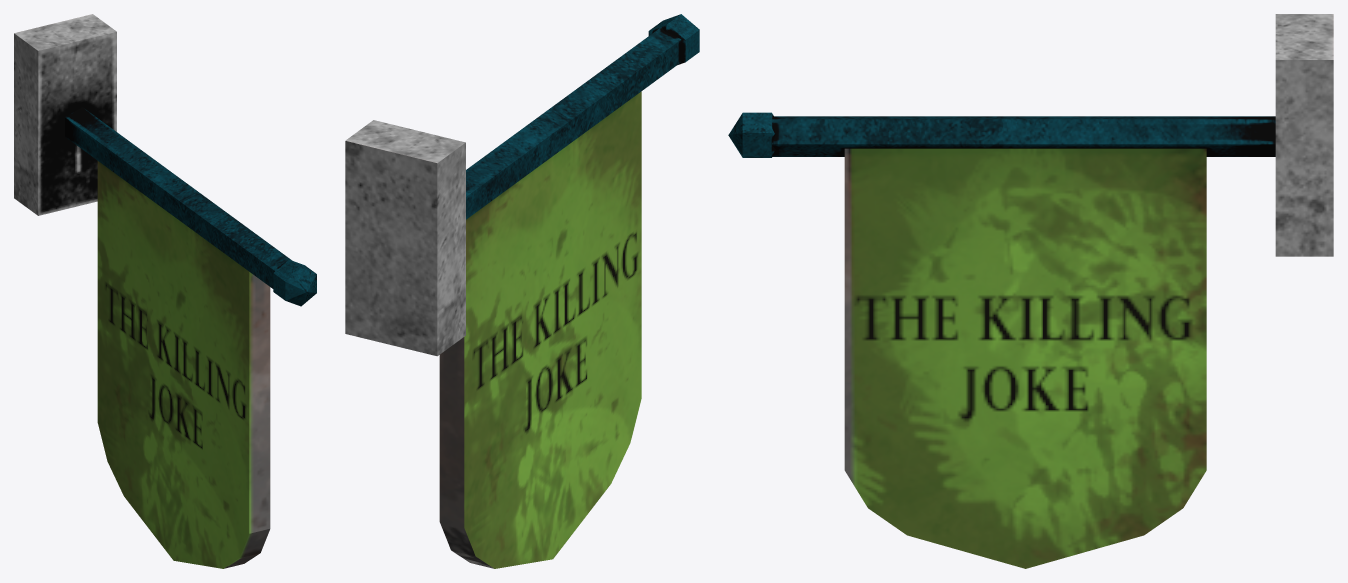
The model's file is SM_Sign1.FBX.
3 renders of one model, left to right at view 1: azimuth 30°, elevation 25°; view 2: azimuth 150°, elevation 25°; view 3: azimuth 270°, elevation 25°, orthographic. The views are drawn at different scales.
Parts seen in each view (by area): view 1: Object003; view 2: Object003; view 3: Object003.
Part boxes in pixels (x1=…): Object003: x1=14, y1=14, x2=316, y2=568; Object003: x1=345, y1=14, x2=699, y2=568; Object003: x1=728, y1=14, x2=1333, y2=568.
Bounding box in the file's own units: 15 × 80.07 × 83.66.
